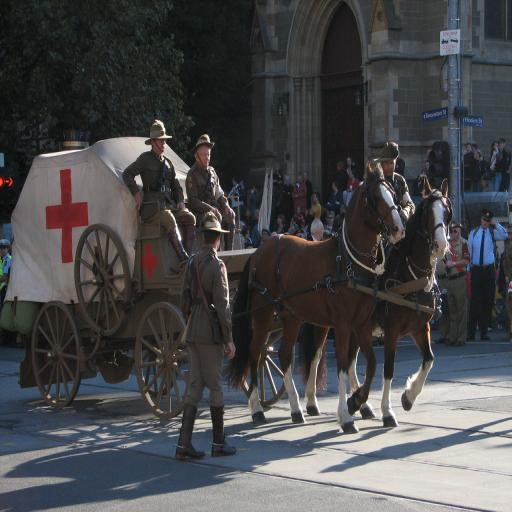horse: (222, 160, 406, 436), (298, 174, 454, 428)
